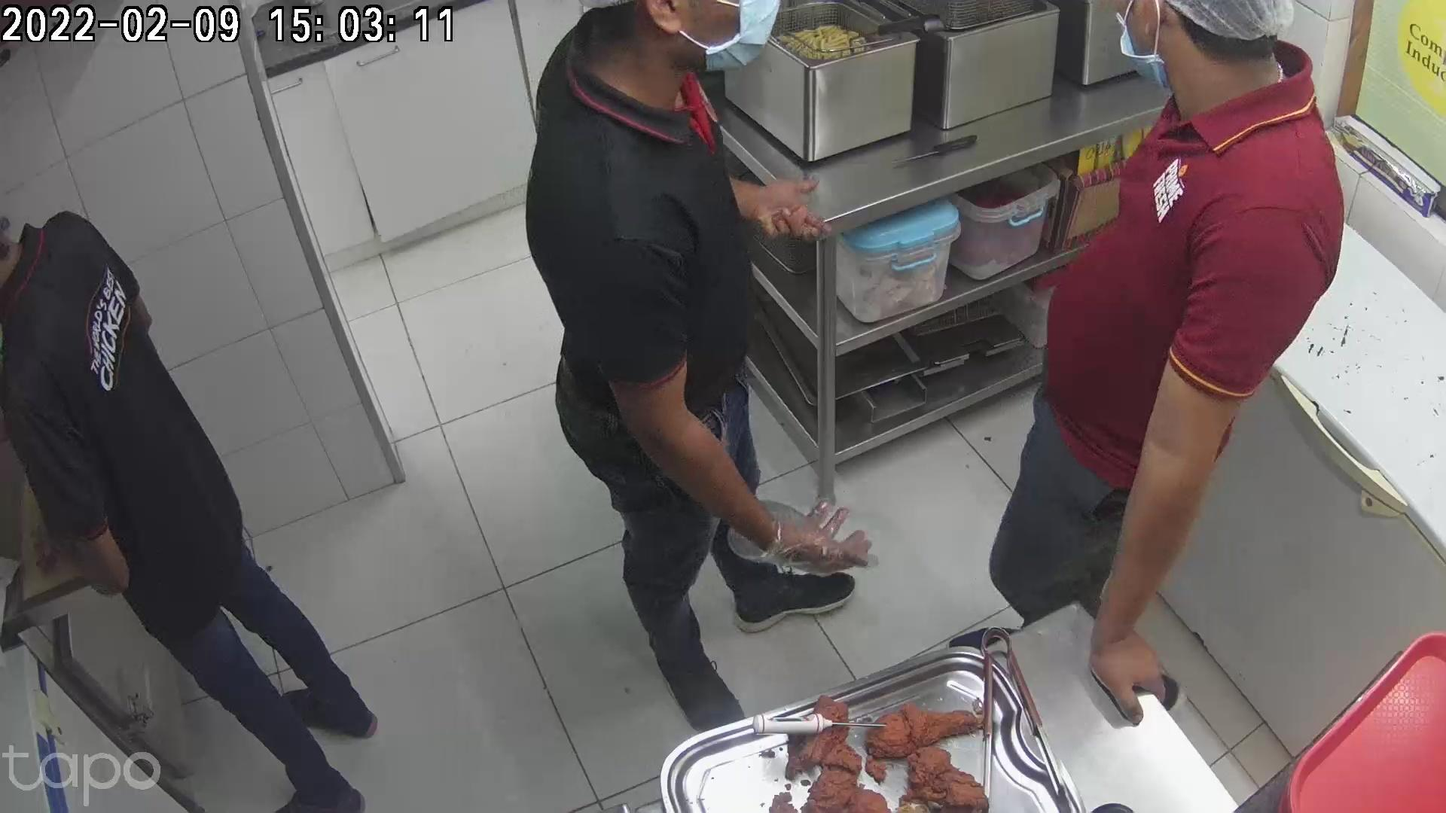gloves: (727, 502, 867, 565)
